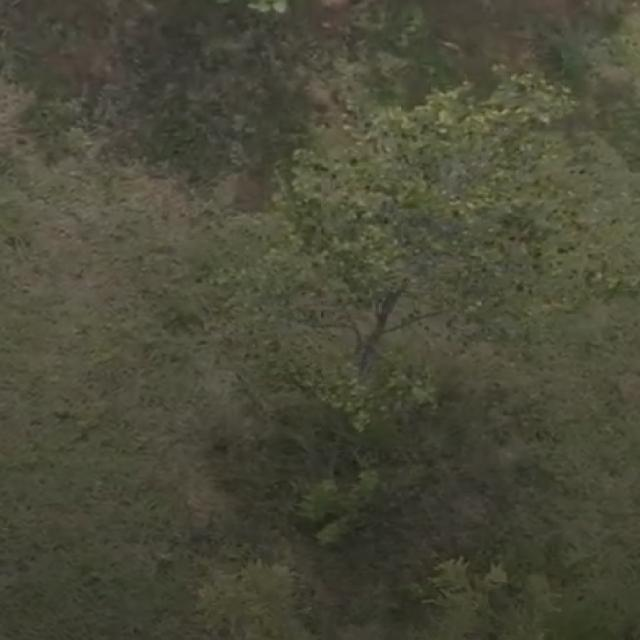notMangoTree: (194, 55, 640, 507)
